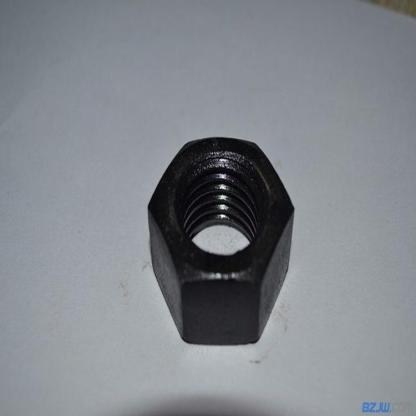FOD: (146, 132, 296, 349)
